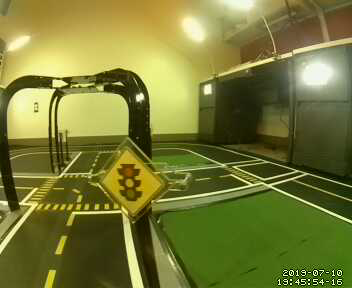Traffic light sign: (101, 148, 161, 214)
